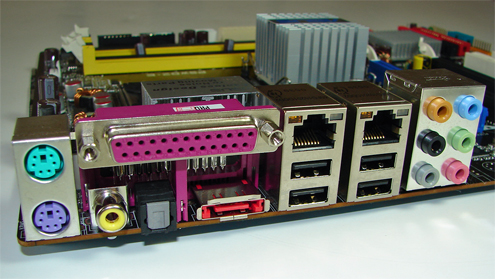Audio: (414, 162, 439, 188), (459, 94, 483, 121), (430, 97, 453, 123), (447, 158, 468, 186), (452, 130, 476, 153), (422, 130, 444, 155)
Ethernet: (288, 112, 343, 154), (358, 108, 407, 146)
USB: (287, 159, 336, 181), (357, 151, 400, 175), (287, 186, 331, 209), (353, 177, 397, 200)
